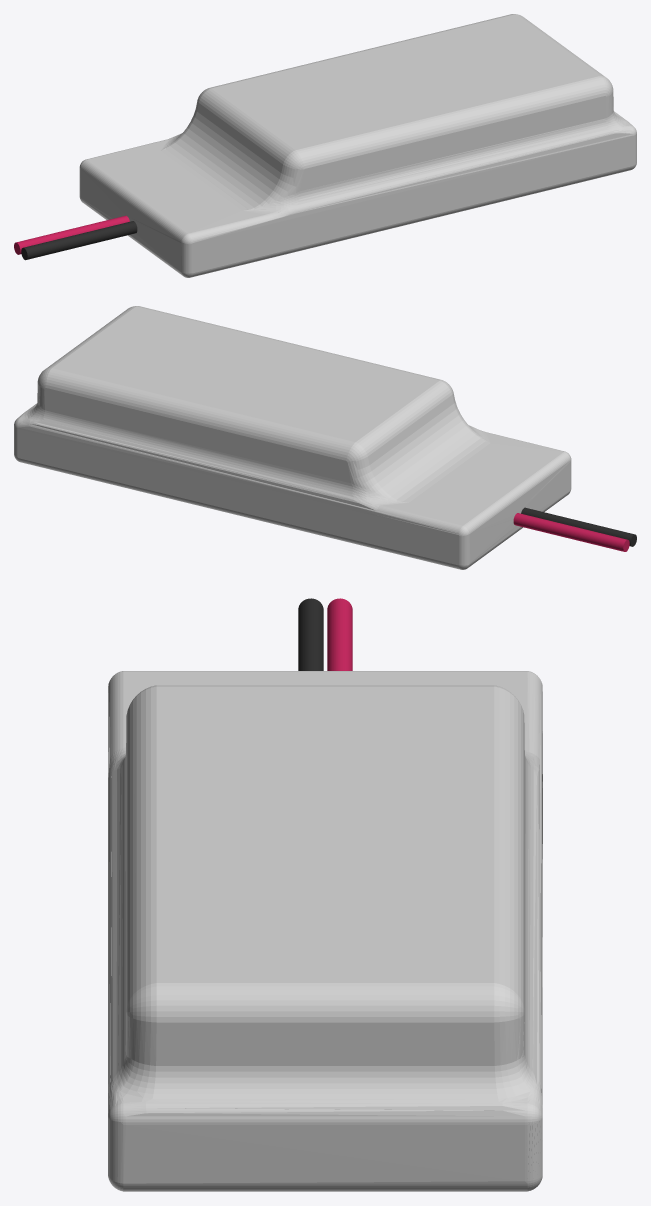
3 views of the same model, one above another, from view 1: azimuth 30°, elevation 25°; view 2: azimuth 150°, elevation 25°; view 3: azimuth 270°, elevation 25° (orthographic). The views are drawn at different scales.
Parts seen in each view (by area): view 1: _31; view 2: _31; view 3: _31.
Part boxes in pixels (bbox=[...]): _31: bbox=[14, 14, 636, 277]; _31: bbox=[14, 306, 636, 569]; _31: bbox=[108, 598, 542, 1191].
Bounding box in the file's own units: 36 × 11.99 × 5.68.
